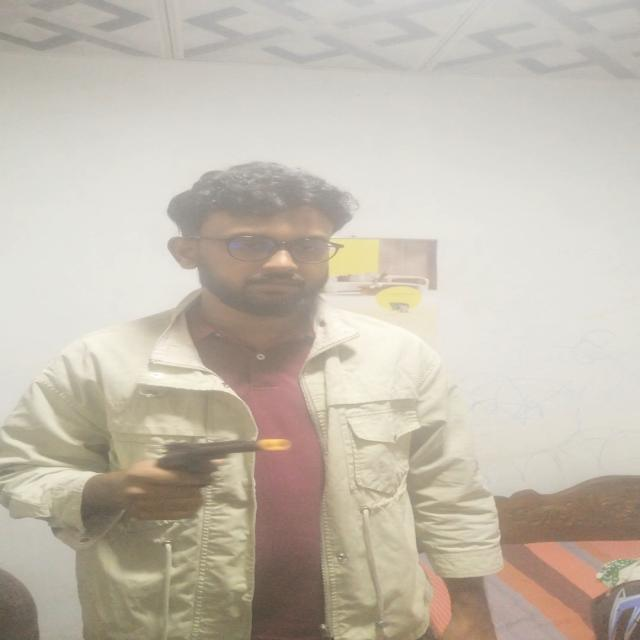Gun_Holder: (130, 436, 292, 513)
Jacket_Wearer: (0, 304, 507, 640)
Person: (3, 155, 498, 640)
